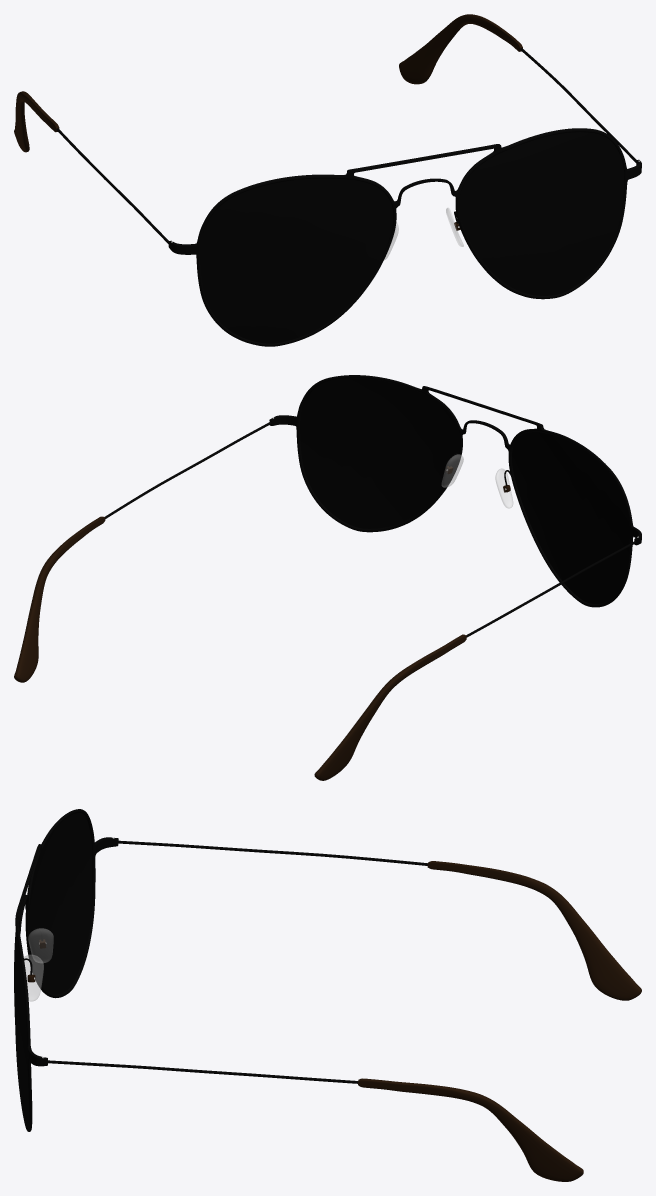
The model's file is Sun-glasses.glb.
3 views of the same model, one above another, from view 1: azimuth 30°, elevation 25°; view 2: azimuth 150°, elevation 25°; view 3: azimuth 270°, elevation 25° (orthographic). The views are drawn at different scales.
Visible parts, largest first — view 1: Aviators; view 2: Aviators; view 3: Aviators.
Boxes of the visible parts, bbox=[...] form: Aviators: bbox=[14, 14, 641, 346]; Aviators: bbox=[14, 375, 641, 780]; Aviators: bbox=[14, 809, 641, 1181].
Size of the model in its own units: 10.15 by 3.51 by 11.15.
